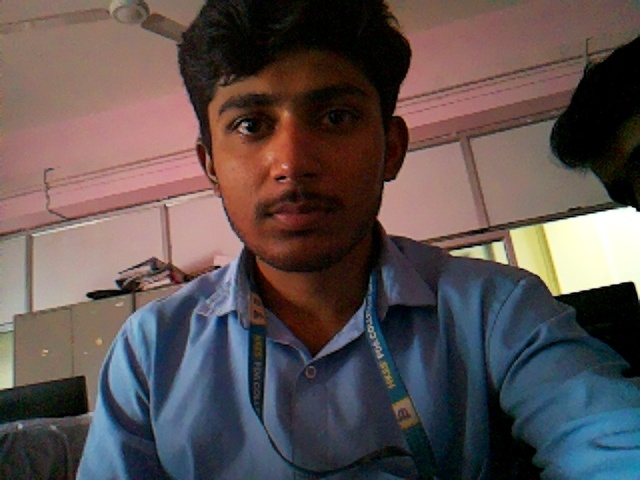Vaibhav: (174, 2, 412, 276)
